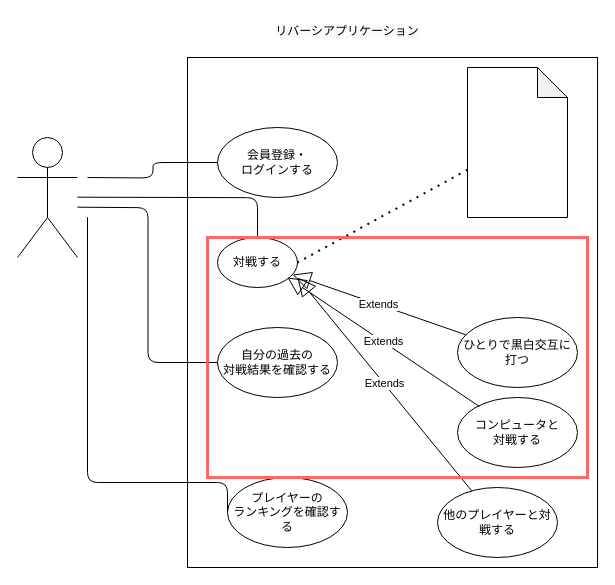
The diagram is 615 pixels wide and 585 high, and some of its shapes have lost their labels. Here are the shapes that lost their labels. From the top down, the centre of each, then its label:
At pixel 517 142: "・対戦を開始する ・盤面を見る ・勝敗を確認する".
At pixel 47 197: "プレイヤー".
